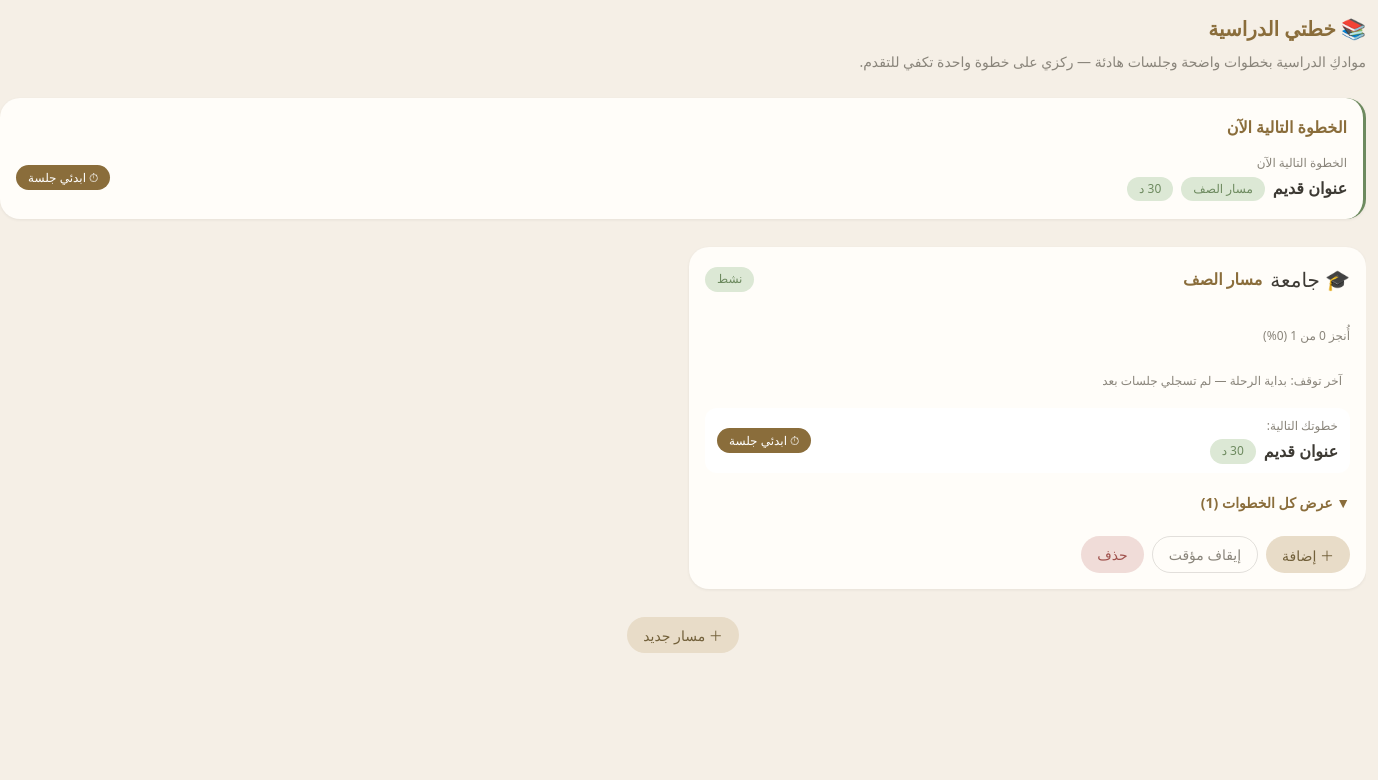
MyPlanPage — بلا أي تجربة Direct Tasks › تحرير عنوان الخطوة من صفها وحذفها بتأكيد واحد
Expected: the heading "مسار الصف" is shown, x1=1183 y1=266 x2=1262 y2=293
Click the button "▼ عرض كل الخطوات (1)" at (1282, 503), box x1=705 y1=489 x2=1350 y2=516
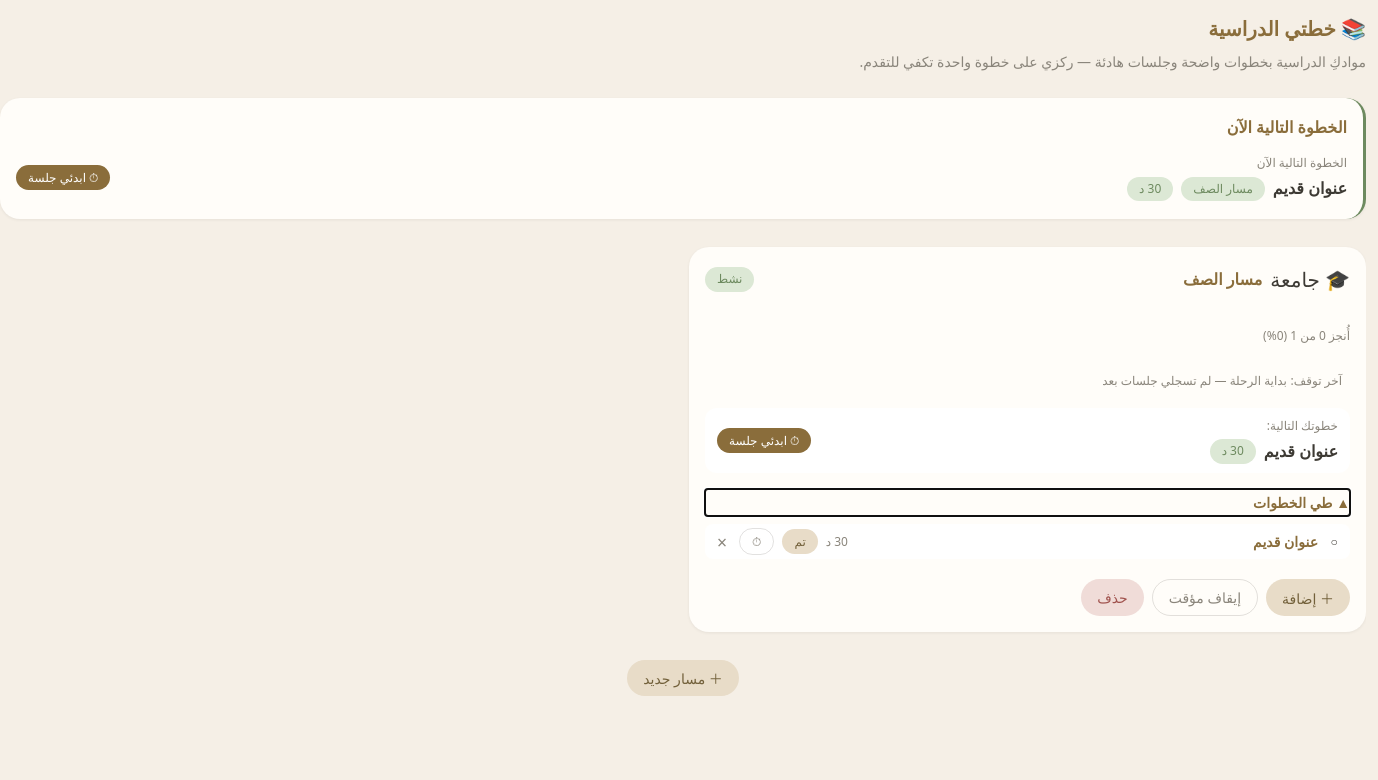
الضغط على العنوان يفتح محررًا داخل الصف — كالمهام
Click the button "عنوان قديم" at (1286, 541), box x1=1253 y1=532 x2=1318 y2=551
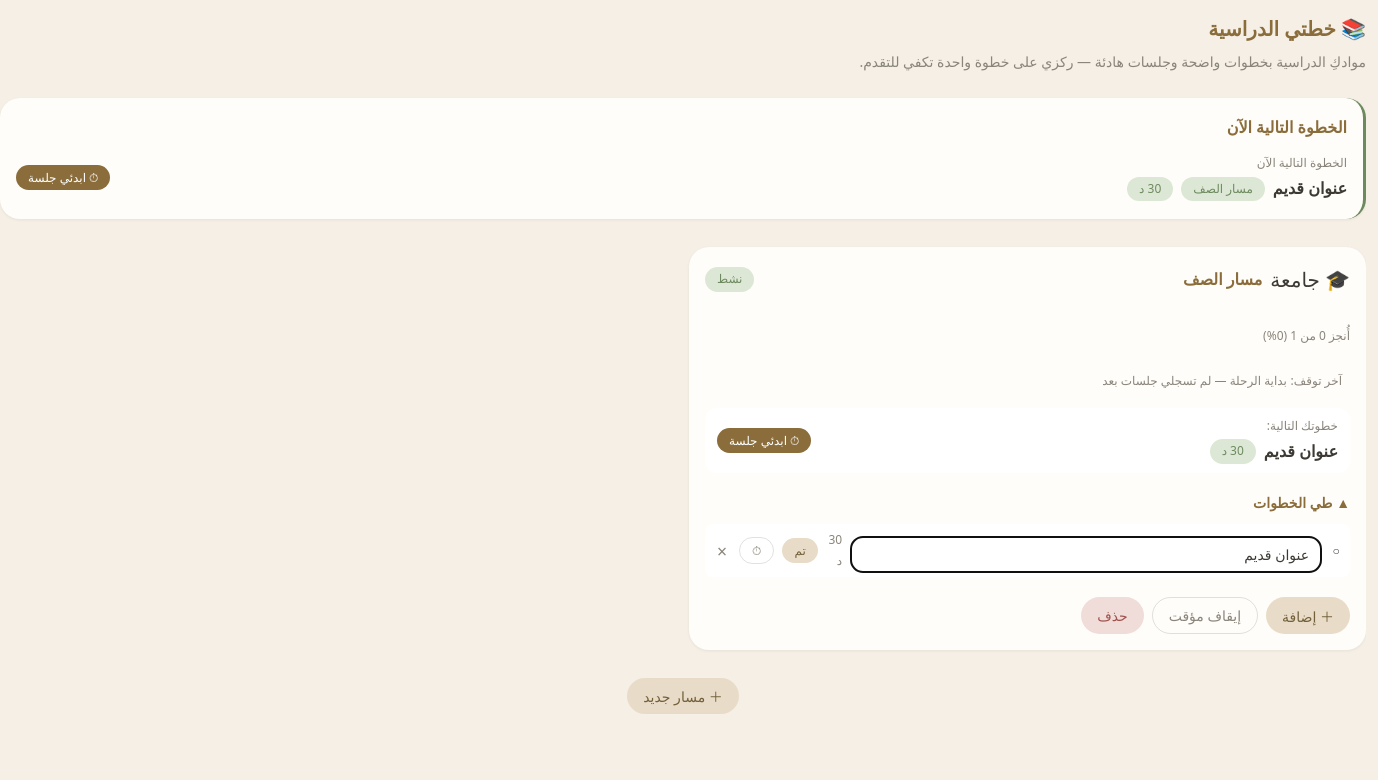
Replace the text in the field named "تعديل" with "عنوان محدّث" at (1086, 555), box x1=850 y1=536 x2=1322 y2=573
Then press Enter
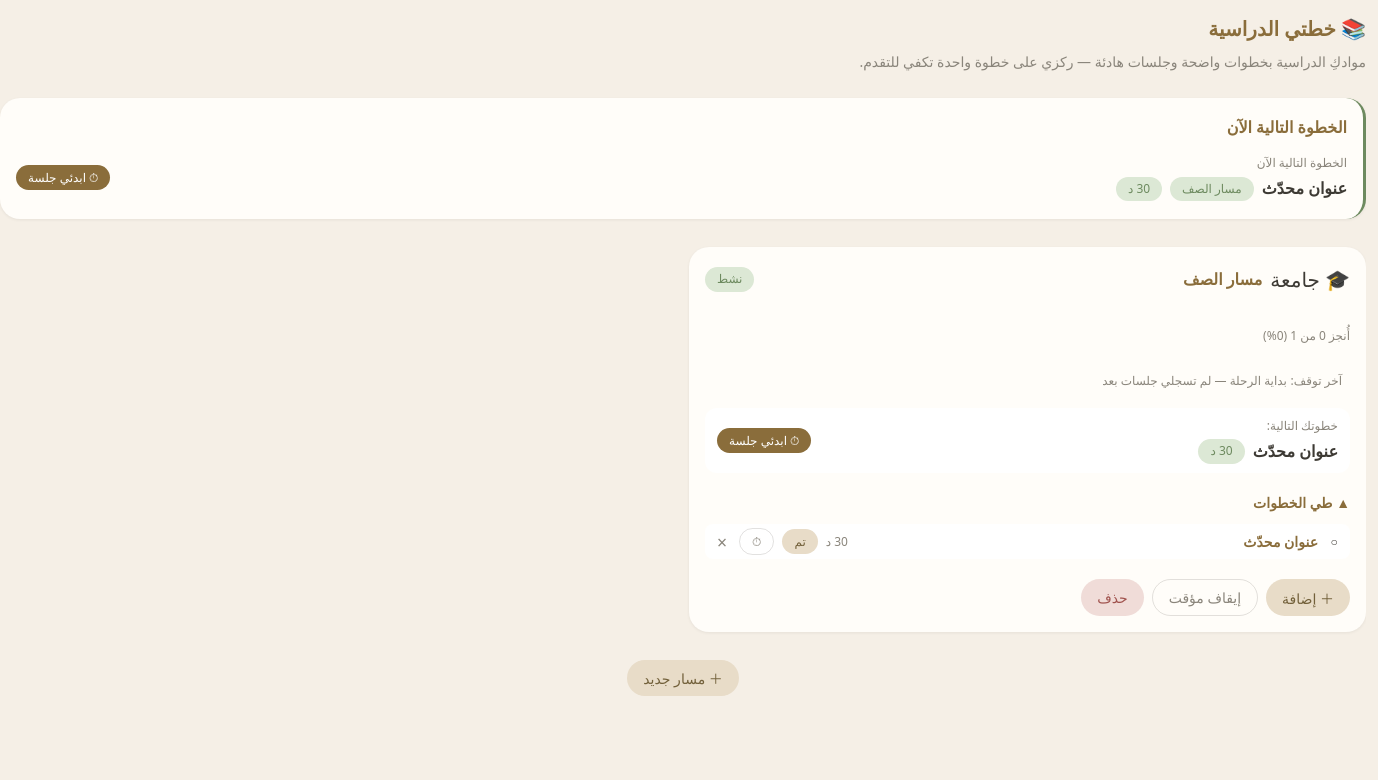
Expected: the 1st text "عنوان محدّث" is shown, x1=1262 y1=175 x2=1347 y2=203
Expected: the list item "عنوان محدّث" is shown, x1=1243 y1=532 x2=1318 y2=551
الحذف: ضغطة تسأل…
Click the button named "حذف" at (722, 542), box x1=713 y1=530 x2=731 y2=554
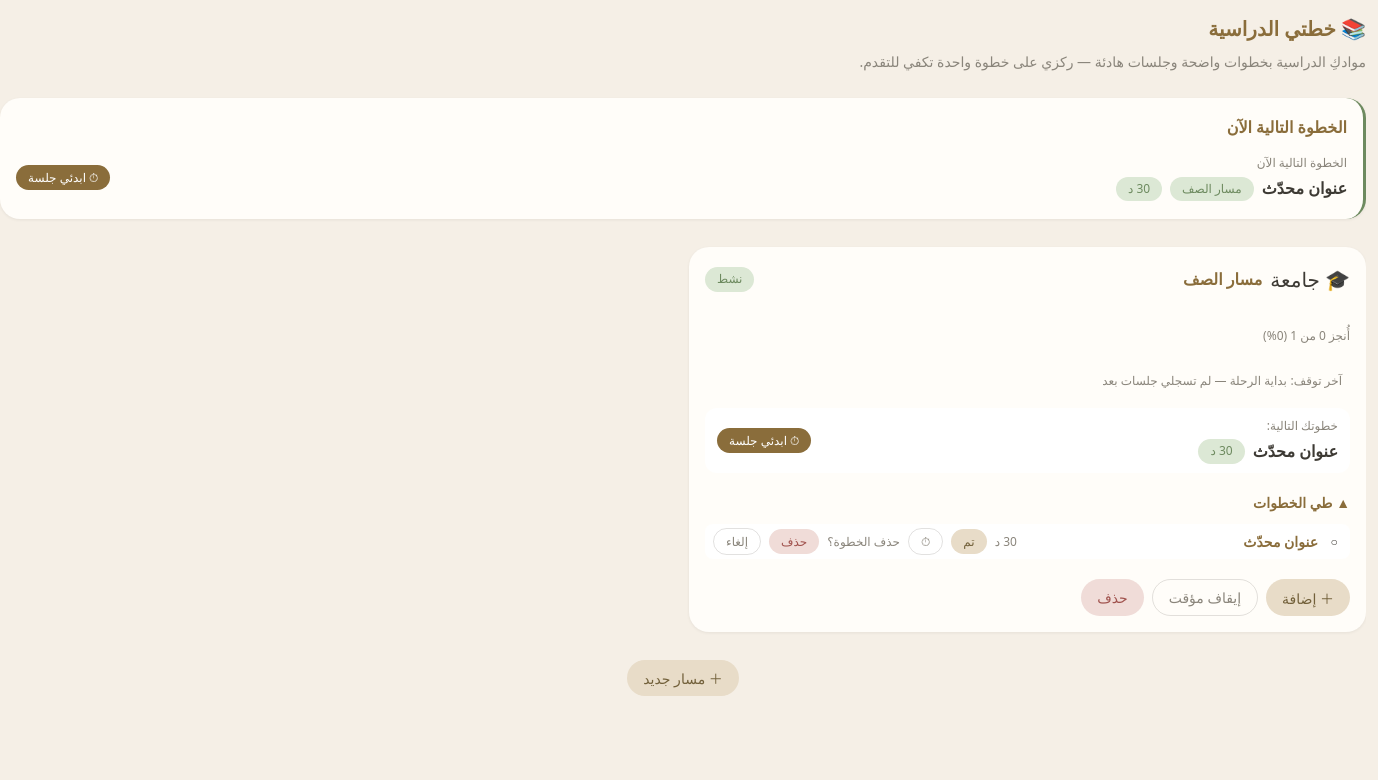
Expected: the text "حذف الخطوة؟" is shown, x1=827 y1=532 x2=900 y2=552
…وتأكيد واحد يحذف
Click the button "حذف" next to "حذف الخطوة؟" at (794, 542), box x1=769 y1=529 x2=819 y2=554
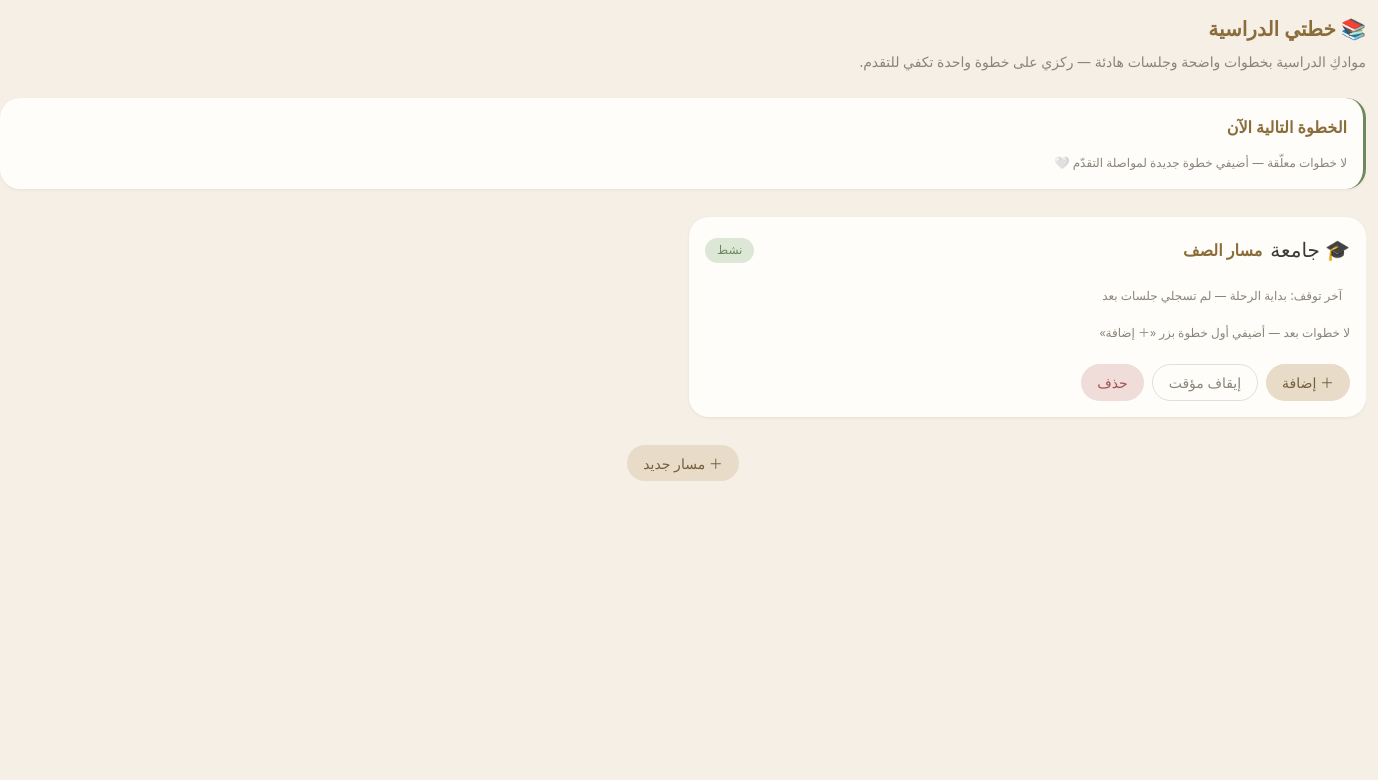
Expected: the text "عنوان محدّث" is gone
